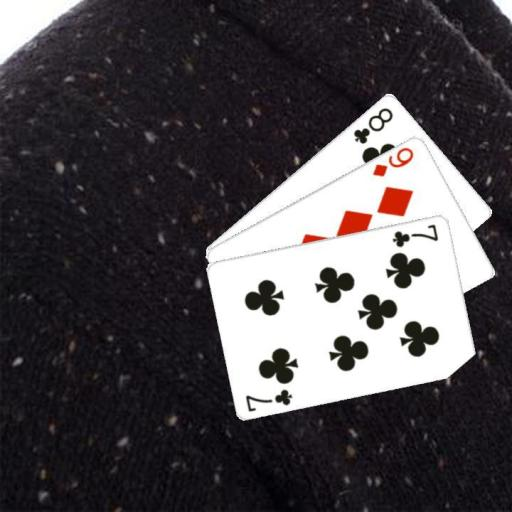7C: (243, 386, 294, 413), (390, 221, 440, 248)
8C: (350, 104, 395, 145)
9D: (369, 143, 415, 178)
